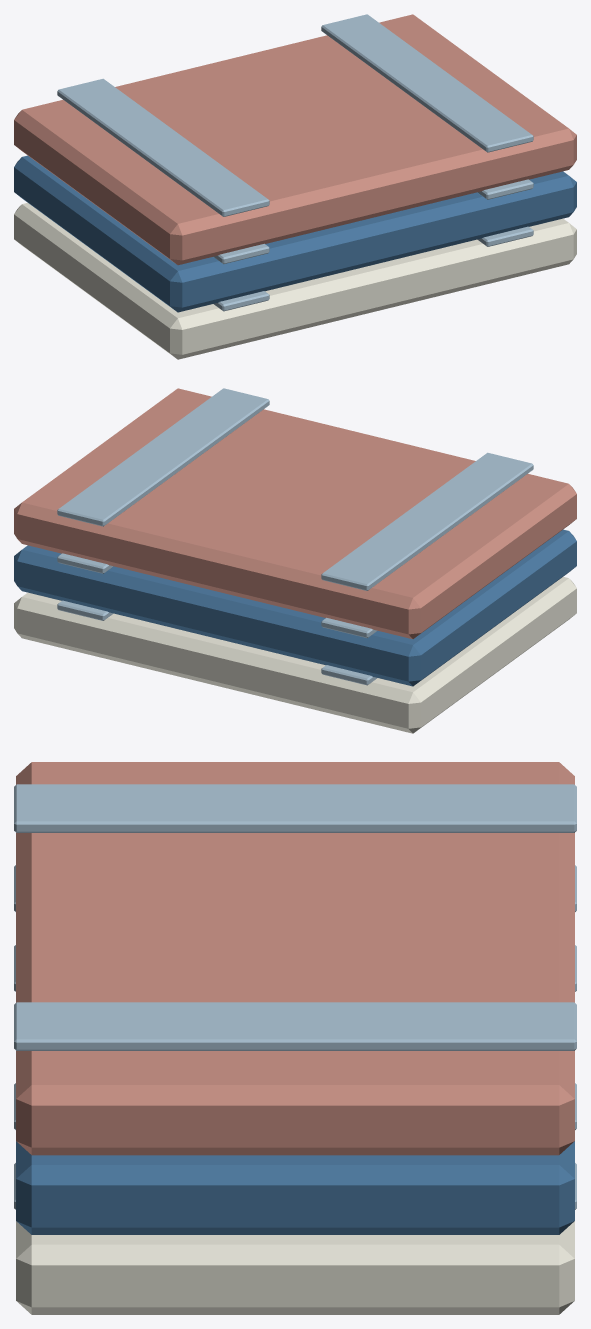
File: folded_beach_towels.glb
3 renders of one model, top to bottom at view 1: azimuth 30°, elevation 25°; view 2: azimuth 150°, elevation 25°; view 3: azimuth 270°, elevation 25°, orthographic. The views are drawn at different scales.
Visible parts, largest first — view 1: towel (×3), towel_stripe (×6); view 2: towel (×3), towel_stripe (×6); view 3: towel (×3), towel_stripe (×2).
Boxes of the visible parts, bbox=[...] form: towel (×3): bbox=[14, 14, 576, 359]; towel_stripe (×6): bbox=[57, 14, 533, 311]; towel (×3): bbox=[14, 388, 576, 733]; towel_stripe (×6): bbox=[57, 388, 533, 685]; towel (×3): bbox=[16, 762, 574, 1314]; towel_stripe (×2): bbox=[14, 784, 576, 1050].
Size of the model in its own units: 0.37 by 0.124 by 0.262.
